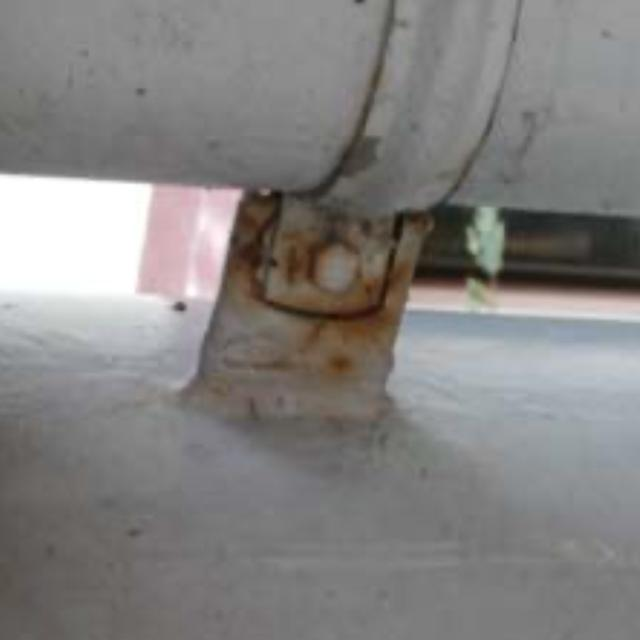corrosion: (176, 160, 423, 420)
